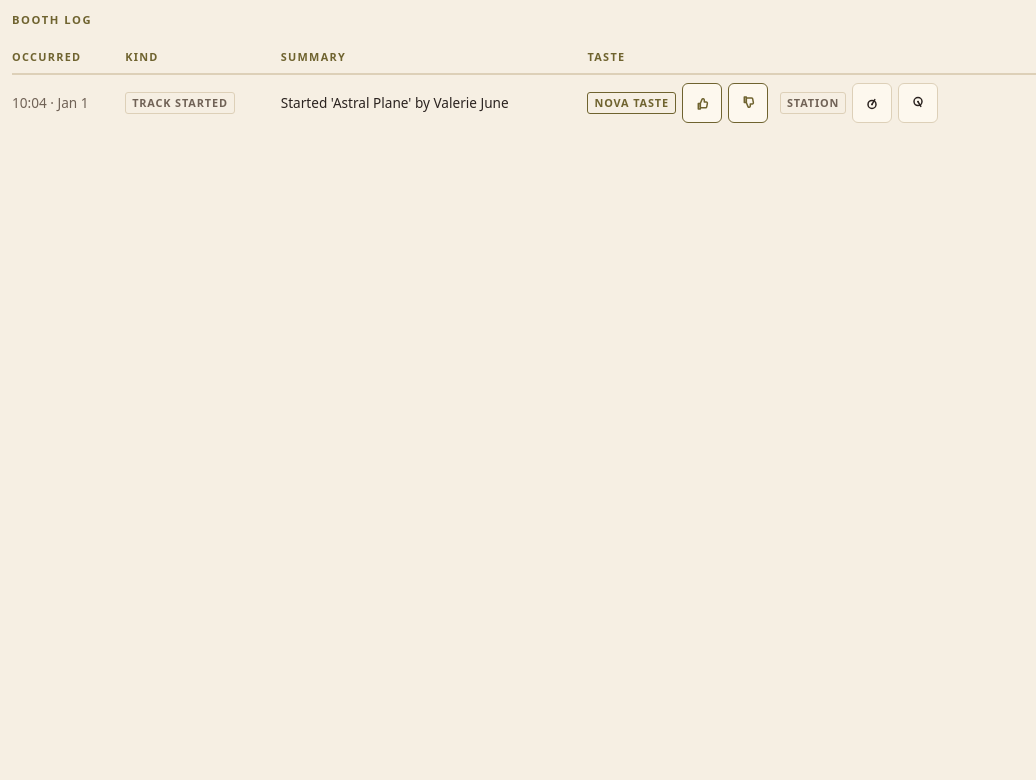
Test: Feature: Station-thumb controls › Scenario: thumbing a station rotation signal (sad path first, then the happy path) › shows the ProblemDetails detail on a 400 and marks nothing pressed
What coordinates should you click on to do the following:
click the button named "Station thumbs up"
I would click on:
 (872, 103)
Its box is [852,83,892,123].
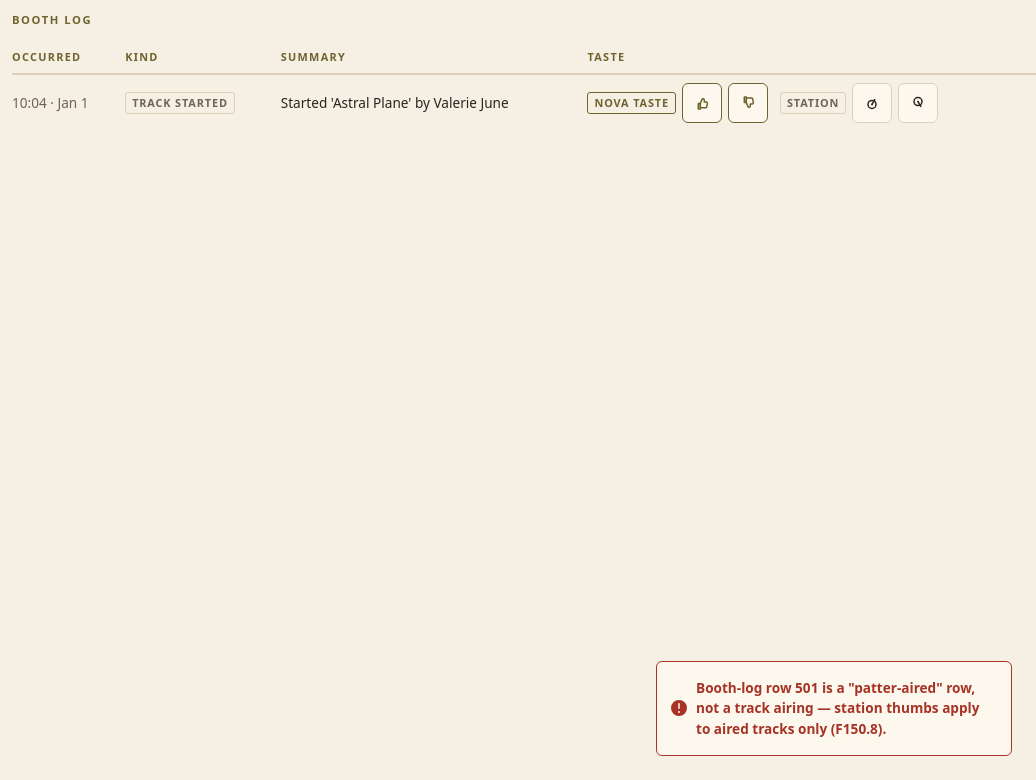
Now the text "Booth-log row 501 is a \"patter-aired\" row, not a track airing — station thumbs apply to aired tracks only (F150.8)." is shown, box [696,678,980,738]
